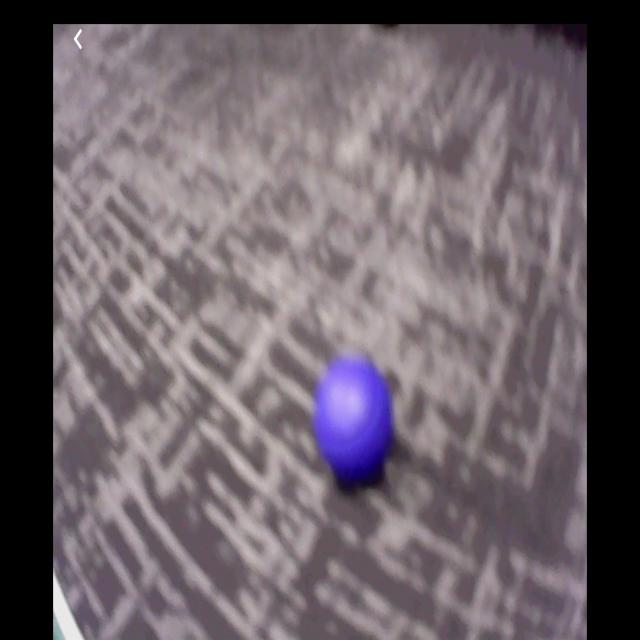ball: (316, 357, 391, 485)
